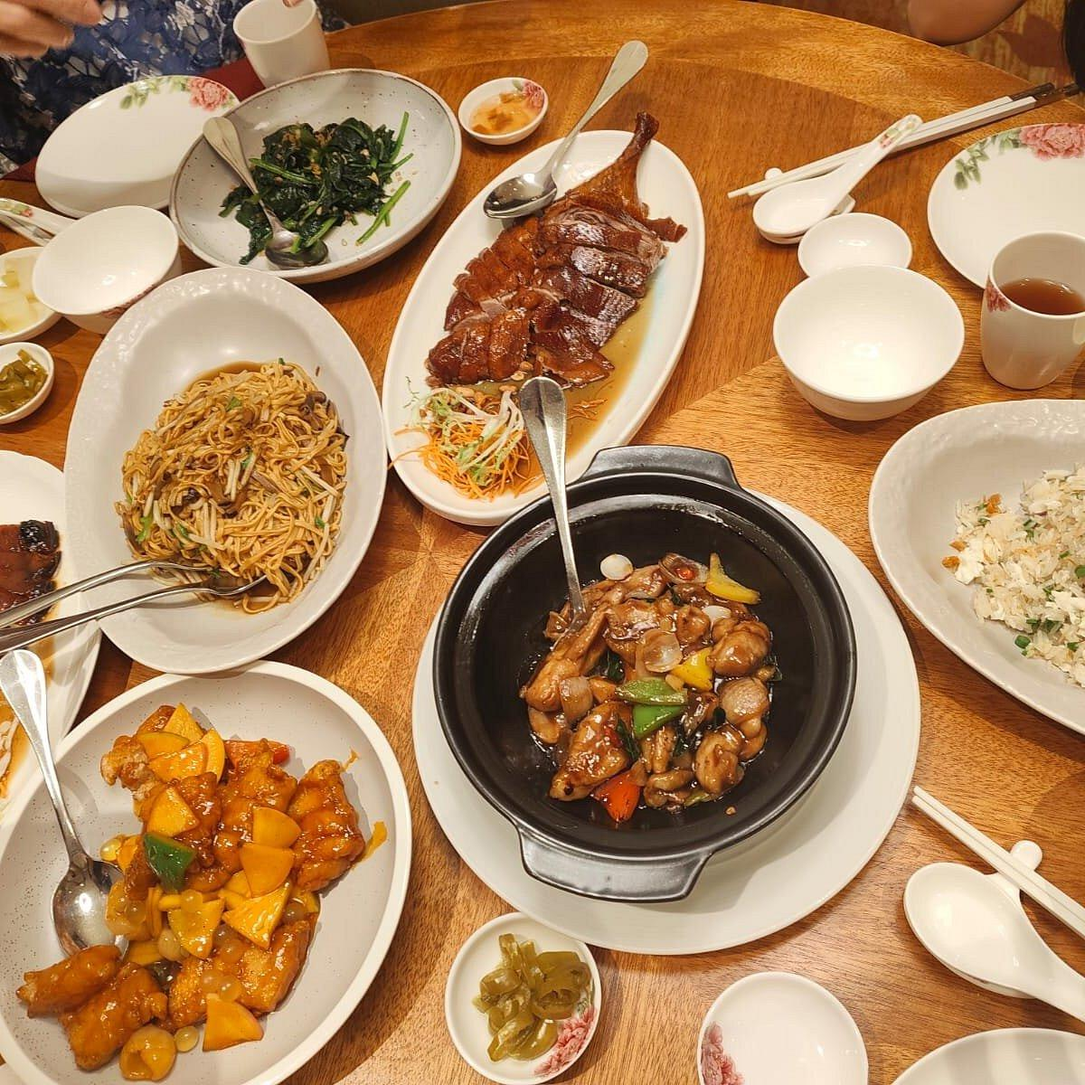Braised Crucian Carp: (421, 468, 846, 899), (1, 662, 410, 1079), (61, 269, 385, 642), (383, 129, 676, 507), (169, 66, 455, 281), (878, 1026, 1085, 1083)
